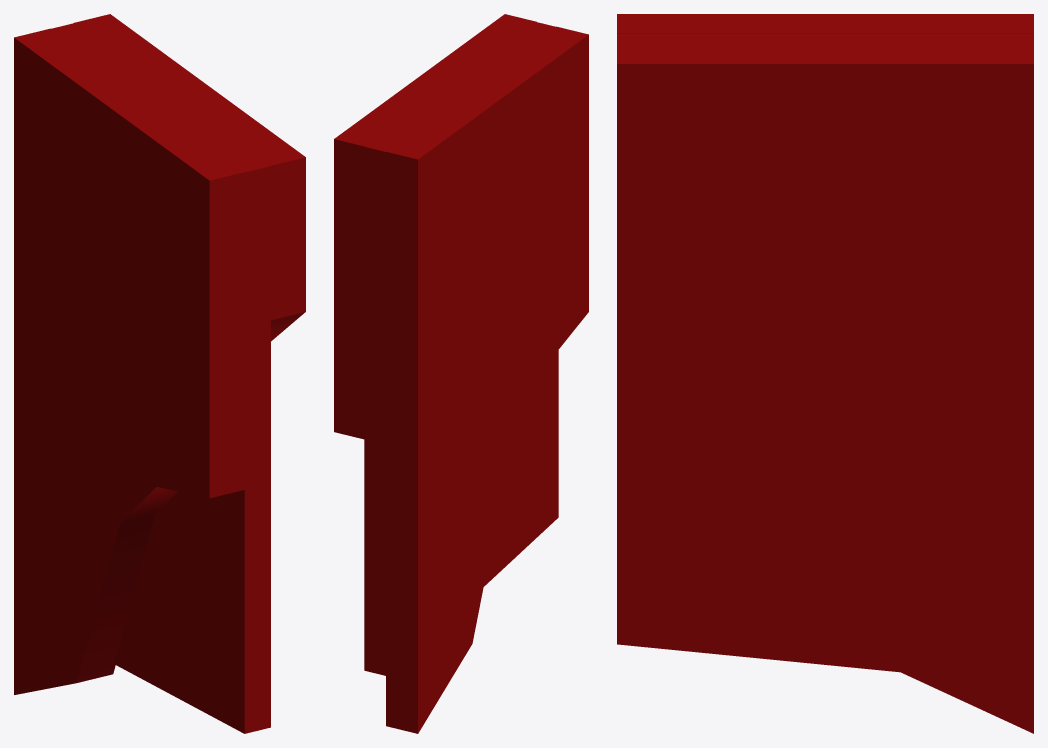
File: SM_Panneau_big3.fbx
3 renders of one model, left to right at view 1: azimuth 30°, elevation 25°; view 2: azimuth 150°, elevation 25°; view 3: azimuth 270°, elevation 25°, orthographic. The views are drawn at different scales.
Visible parts, largest first — view 1: Panneau_big3; view 2: Panneau_big3; view 3: Panneau_big3.
Part boxes in pixels (x1=…): Panneau_big3: x1=14, y1=14, x2=305, y2=733; Panneau_big3: x1=334, y1=14, x2=588, y2=733; Panneau_big3: x1=617, y1=14, x2=1033, y2=733.
Size of the model in its own units: 18.82 by 123 by 66.25.
